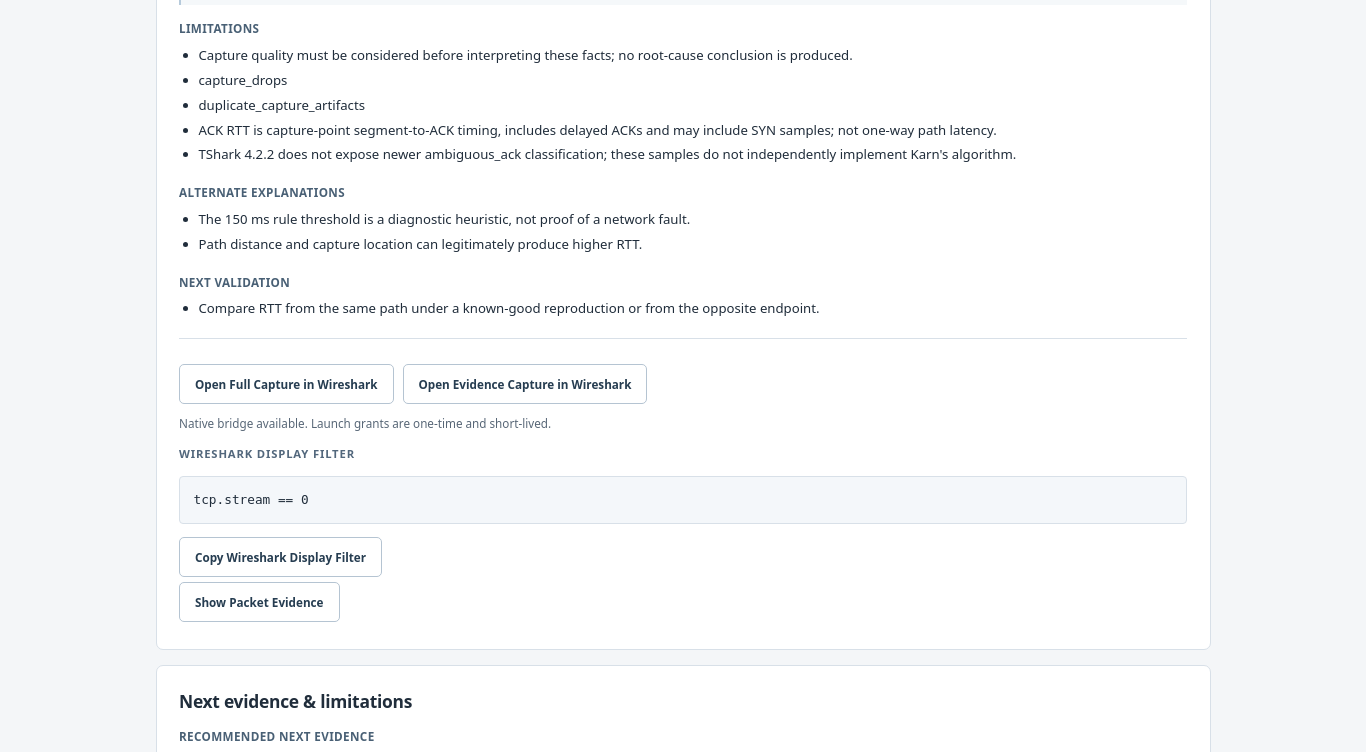
Scenario: evidence and uncertainty presentation › keeps bridge ready after a finding or extraction API failure
(page scrolled)
Step 1. Click the button "Open Full Capture in Wireshark" → click(286, 384), box [179,364,394,404]
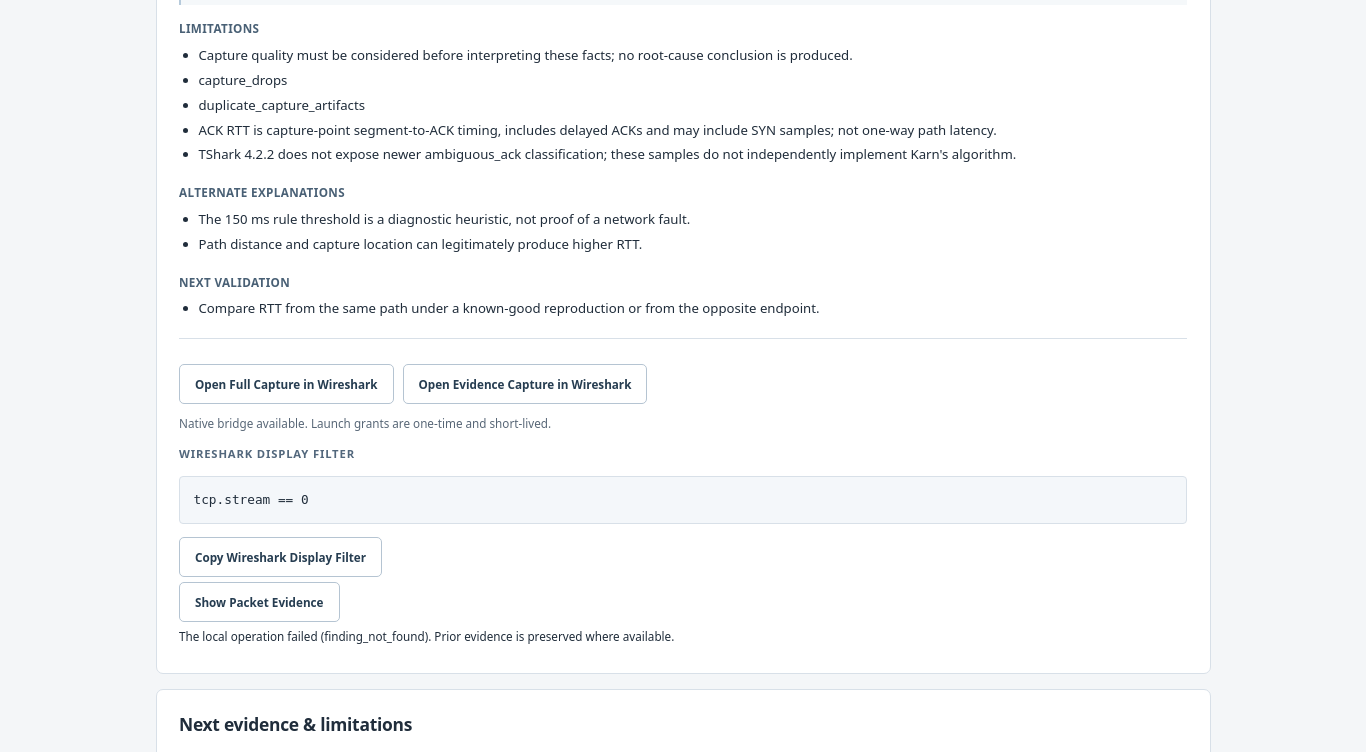
Check: the text "Native bridge available" is shown, box [179,416,551,432]
Check: the text "finding_not_found" is shown, box [179,628,674,644]
